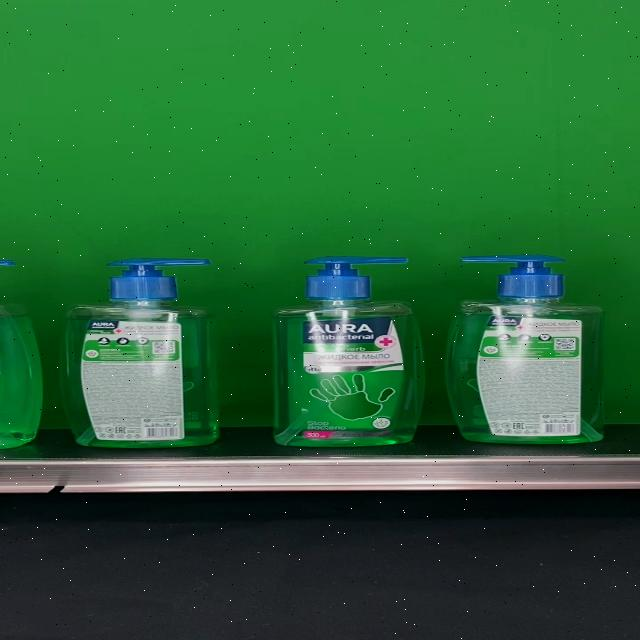Bottle: (59, 258, 219, 448), (446, 255, 604, 444), (271, 257, 426, 446)
Cap: (302, 257, 408, 300), (458, 255, 564, 297), (107, 258, 210, 300)
